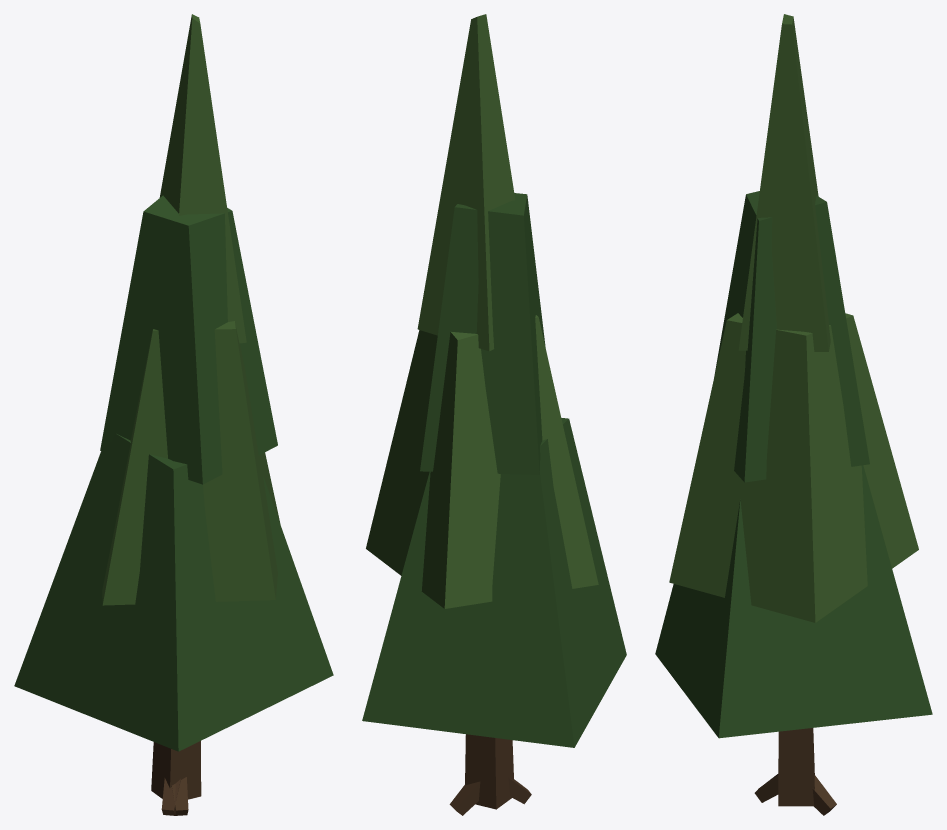
The model's file is tree_pine_a.glb.
3 views of the same model, side by side, from view 1: azimuth 30°, elevation 25°; view 2: azimuth 150°, elevation 25°; view 3: azimuth 270°, elevation 25° (orthographic).
Visible parts, largest first — view 1: skirt, skirt.002, skirt.001, skirt.003, Cube; view 2: skirt, skirt.001, skirt.002, skirt.003, Cube, root; view 3: skirt.001, skirt, skirt.003, skirt.002, Cube, root.
Boxes of the visible parts, x1=… form: skirt: x1=14, y1=433, x2=333, y2=751; skirt.002: x1=100, y1=195, x2=277, y2=484; skirt.001: x1=102, y1=321, x2=280, y2=605; skirt.003: x1=159, y1=14, x2=246, y2=343; Cube: x1=151, y1=741, x2=201, y2=799; skirt: x1=362, y1=418, x2=626, y2=747; skirt.001: x1=366, y1=315, x2=598, y2=608; skirt.002: x1=420, y1=193, x2=545, y2=474; skirt.003: x1=417, y1=14, x2=515, y2=351; Cube: x1=465, y1=734, x2=513, y2=809; root: x1=449, y1=781, x2=480, y2=815; skirt.001: x1=669, y1=313, x2=918, y2=622; skirt: x1=655, y1=465, x2=932, y2=738; skirt.003: x1=738, y1=14, x2=830, y2=351; skirt.002: x1=714, y1=191, x2=869, y2=482; Cube: x1=778, y1=728, x2=814, y2=806; root: x1=812, y1=775, x2=836, y2=815.
Size of the model in its own units: 39.74 by 123 by 38.81.
